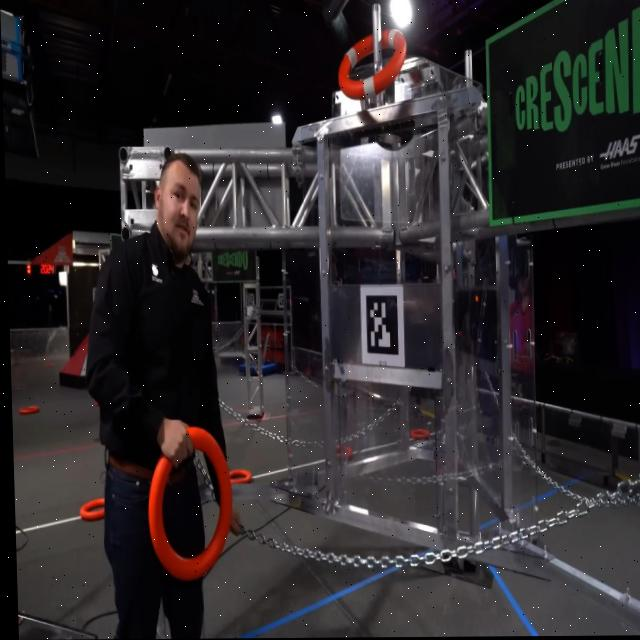note: (143, 426, 231, 580), (336, 29, 407, 100), (76, 497, 102, 521), (226, 469, 249, 485), (406, 427, 429, 441), (333, 445, 351, 461), (16, 405, 37, 415)
robot: (234, 333, 278, 377)
